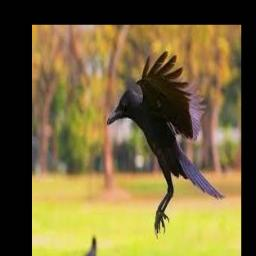Crow: (107, 51, 226, 239)
